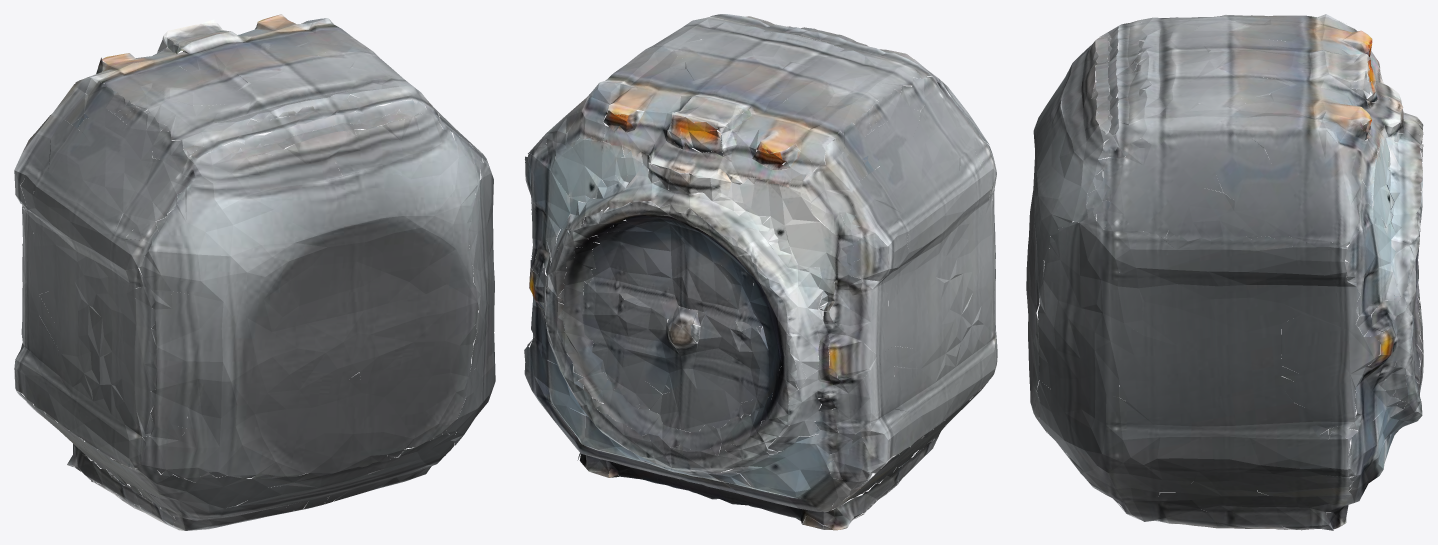
Rendered from exit.glb.
3 renders of one model, left to right at view 1: azimuth 30°, elevation 25°; view 2: azimuth 150°, elevation 25°; view 3: azimuth 270°, elevation 25°, orthographic. The views are drawn at different scales.
Visible parts, largest first — view 1: world; view 2: world; view 3: world.
Boxes of the visible parts, <box> form: world: <box>14,14,495,530</box>; world: <box>524,14,997,530</box>; world: <box>1026,14,1423,530</box>.
Bounding box in the file's own units: 0.8128 × 0.8525 × 0.7476.
1 material, 1 textured.
